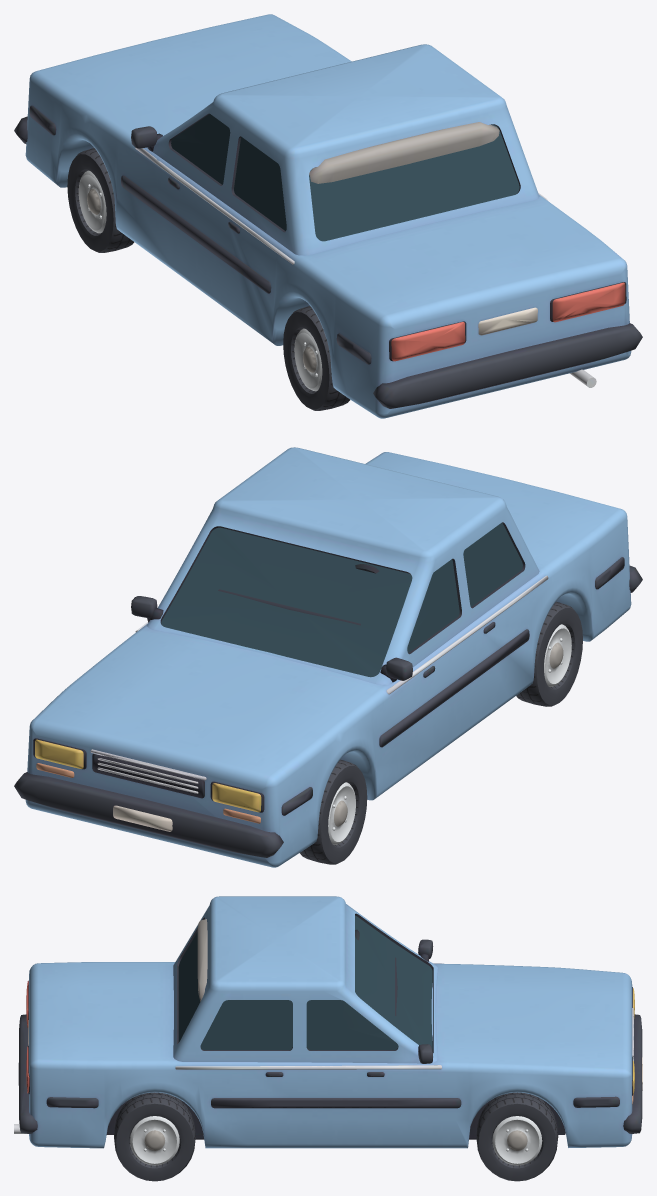
Rendered from traffic-sedan-retro.glb.
3 views of the same model, one above another, from view 1: azimuth 30°, elevation 25°; view 2: azimuth 150°, elevation 25°; view 3: azimuth 270°, elevation 25° (orthographic). The views are drawn at different scales.
Visible parts, largest first — view 1: body-1980s-sedan_body_pbr, body-1980s-sedan_window_glass_x, wheel2-1980s-sedan_tire_x, wheel0-1980s-sedan_tire_x, wheel0-1980s-sedan_rim_x, wheel2-1980s-sedan_rim_x; view 2: body-1980s-sedan_body_pbr, body-1980s-sedan_window_glass_x, wheel0-1980s-sedan_tire_x, wheel2-1980s-sedan_tire_x, wheel2-1980s-sedan_rim_x, wheel0-1980s-sedan_rim_x; view 3: body-1980s-sedan_body_pbr, body-1980s-sedan_window_glass_x, wheel3-1980s-sedan_tire_x, wheel1-1980s-sedan_tire_x, wheel1-1980s-sedan_rim_x, wheel3-1980s-sedan_rim_x.
Boxes of the visible parts, x1,y1,x2,y2 form: body-1980s-sedan_body_pbr: [14, 14, 642, 418]; body-1980s-sedan_window_glass_x: [171, 114, 519, 241]; wheel2-1980s-sedan_tire_x: [283, 306, 349, 410]; wheel0-1980s-sedan_tire_x: [67, 148, 134, 252]; wheel0-1980s-sedan_rim_x: [78, 170, 106, 233]; wheel2-1980s-sedan_rim_x: [294, 328, 322, 391]; body-1980s-sedan_body_pbr: [14, 447, 642, 867]; body-1980s-sedan_window_glass_x: [161, 522, 522, 677]; wheel0-1980s-sedan_tire_x: [300, 759, 367, 864]; wheel2-1980s-sedan_tire_x: [516, 601, 582, 706]; wheel2-1980s-sedan_rim_x: [544, 624, 571, 686]; wheel0-1980s-sedan_rim_x: [328, 782, 355, 844]; body-1980s-sedan_body_pbr: [14, 896, 642, 1148]; body-1980s-sedan_window_glass_x: [178, 915, 432, 1049]; wheel3-1980s-sedan_tire_x: [114, 1092, 195, 1181]; wheel1-1980s-sedan_tire_x: [476, 1092, 558, 1181]; wheel1-1980s-sedan_rim_x: [492, 1116, 542, 1165]; wheel3-1980s-sedan_rim_x: [130, 1116, 179, 1165].
Size of the model in its own units: 2.1 by 1.65 by 4.9.
Materials: 6 (2 with a texture image).
